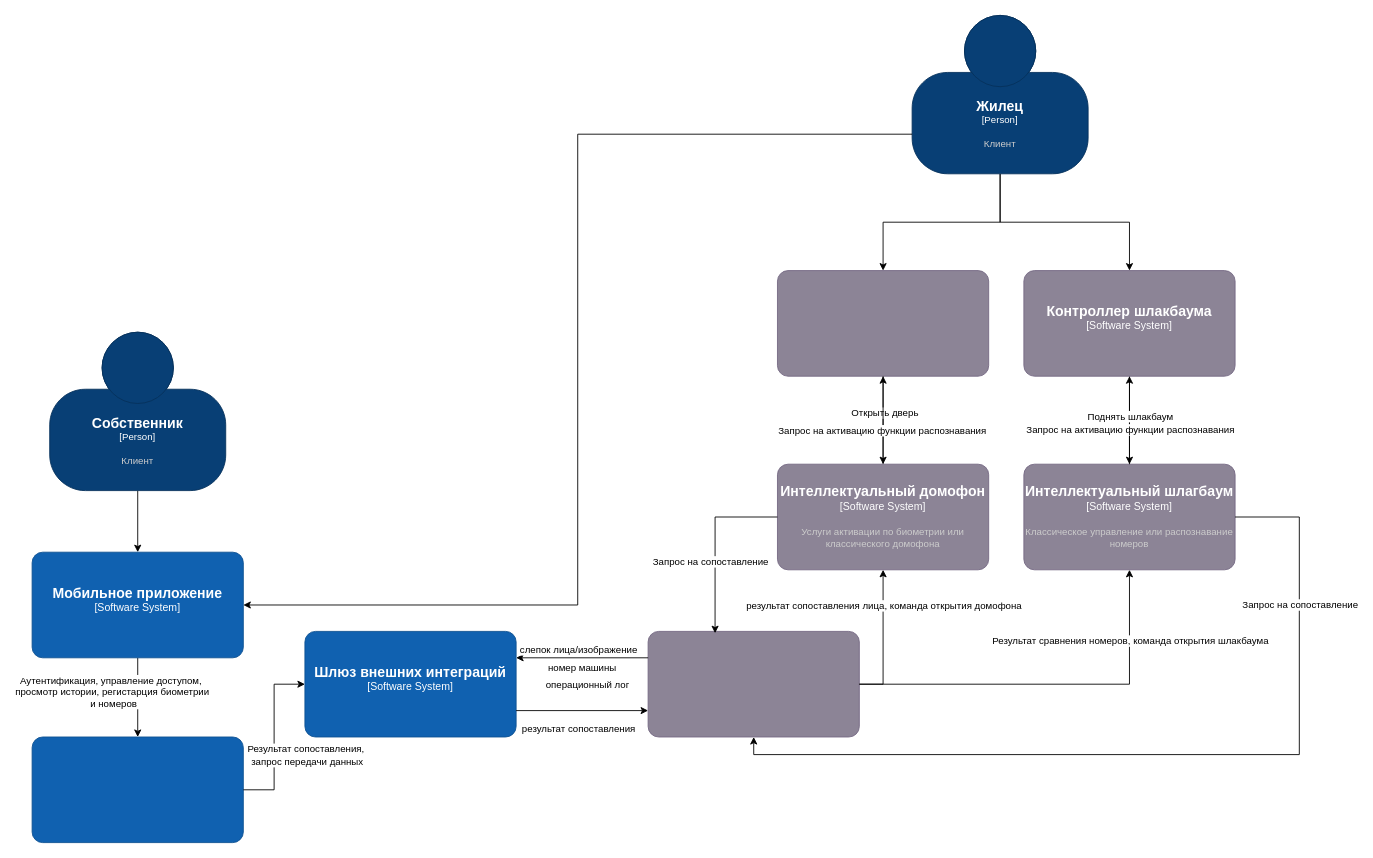
The diagram is 1373 pixels wide and 858 high, and some of its shapes have lost their labels. Each missing label, with the centre of its shape:
Дверной контроллер (открытие домофона) [Software System]: the point at 883,323
Платформа "Умный дом" [Software System] Сервисы умного дома: the point at 753,684
Платформа PropDevelopment [Software System]: the point at 137,789
